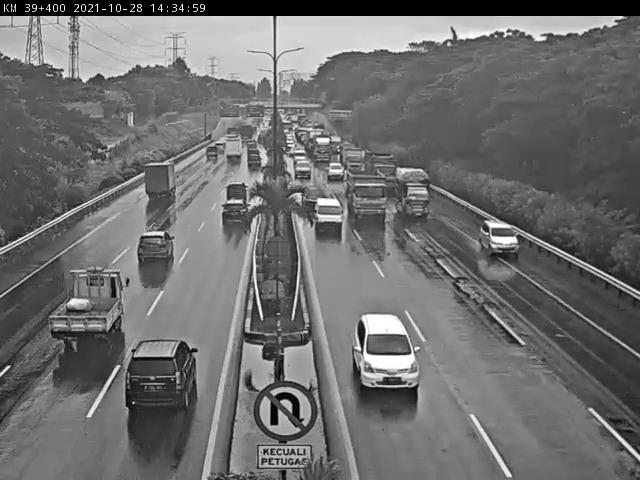big truck: (348, 174, 389, 230)
car: (119, 333, 203, 423), (355, 312, 422, 398), (476, 216, 520, 263), (128, 234, 175, 278), (315, 195, 346, 236), (224, 195, 252, 233), (219, 184, 251, 210), (328, 161, 345, 185), (295, 161, 313, 179), (302, 184, 319, 203)
small truck: (44, 259, 131, 354), (140, 149, 190, 204), (391, 167, 429, 225)
